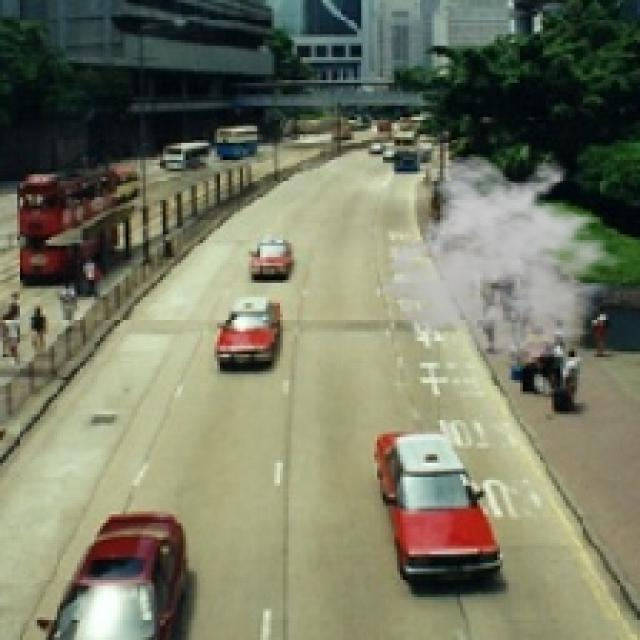smoke: (374, 151, 637, 366)
